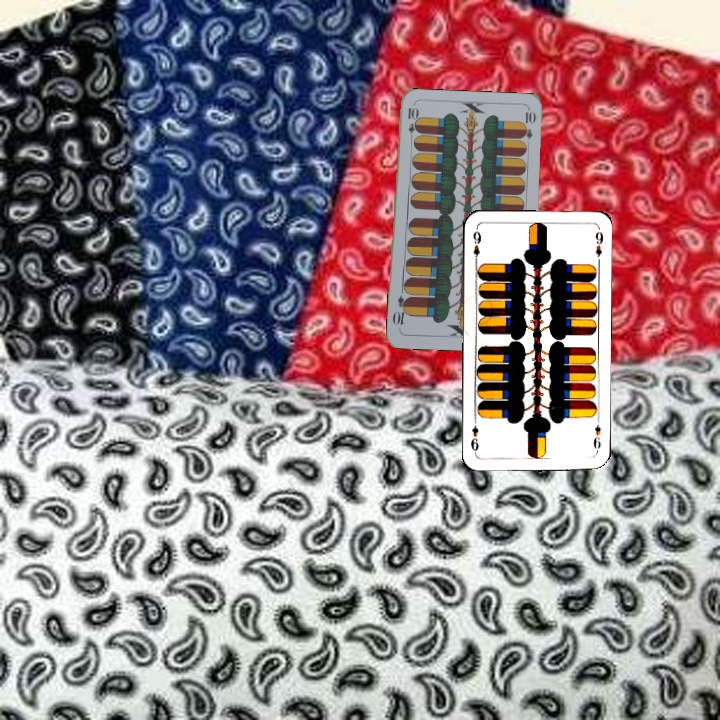E10: (404, 103, 418, 144)
E9: (469, 225, 484, 265), (589, 415, 603, 455)
